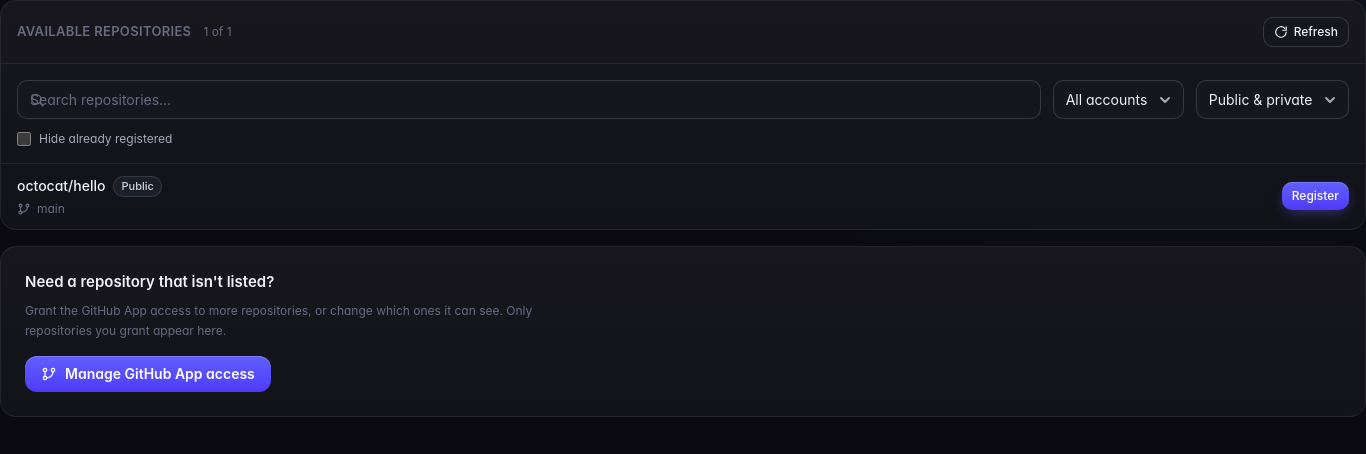
Test: RepoPicker registration › surfaces a registration failure without losing the row
Click the button "Register".
click(1315, 196)  # box x1=1282 y1=182 x2=1349 y2=210
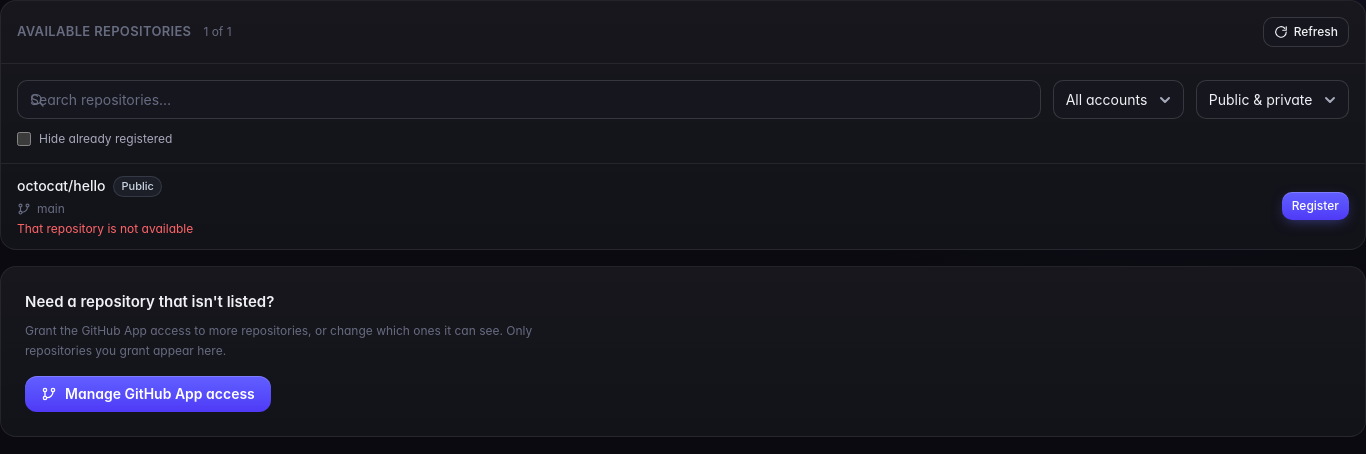
Expected: the text "octocat/hello" is shown, x1=17 y1=176 x2=106 y2=196
Now the text "That repository is not available" is shown, box x1=17 y1=220 x2=193 y2=236
